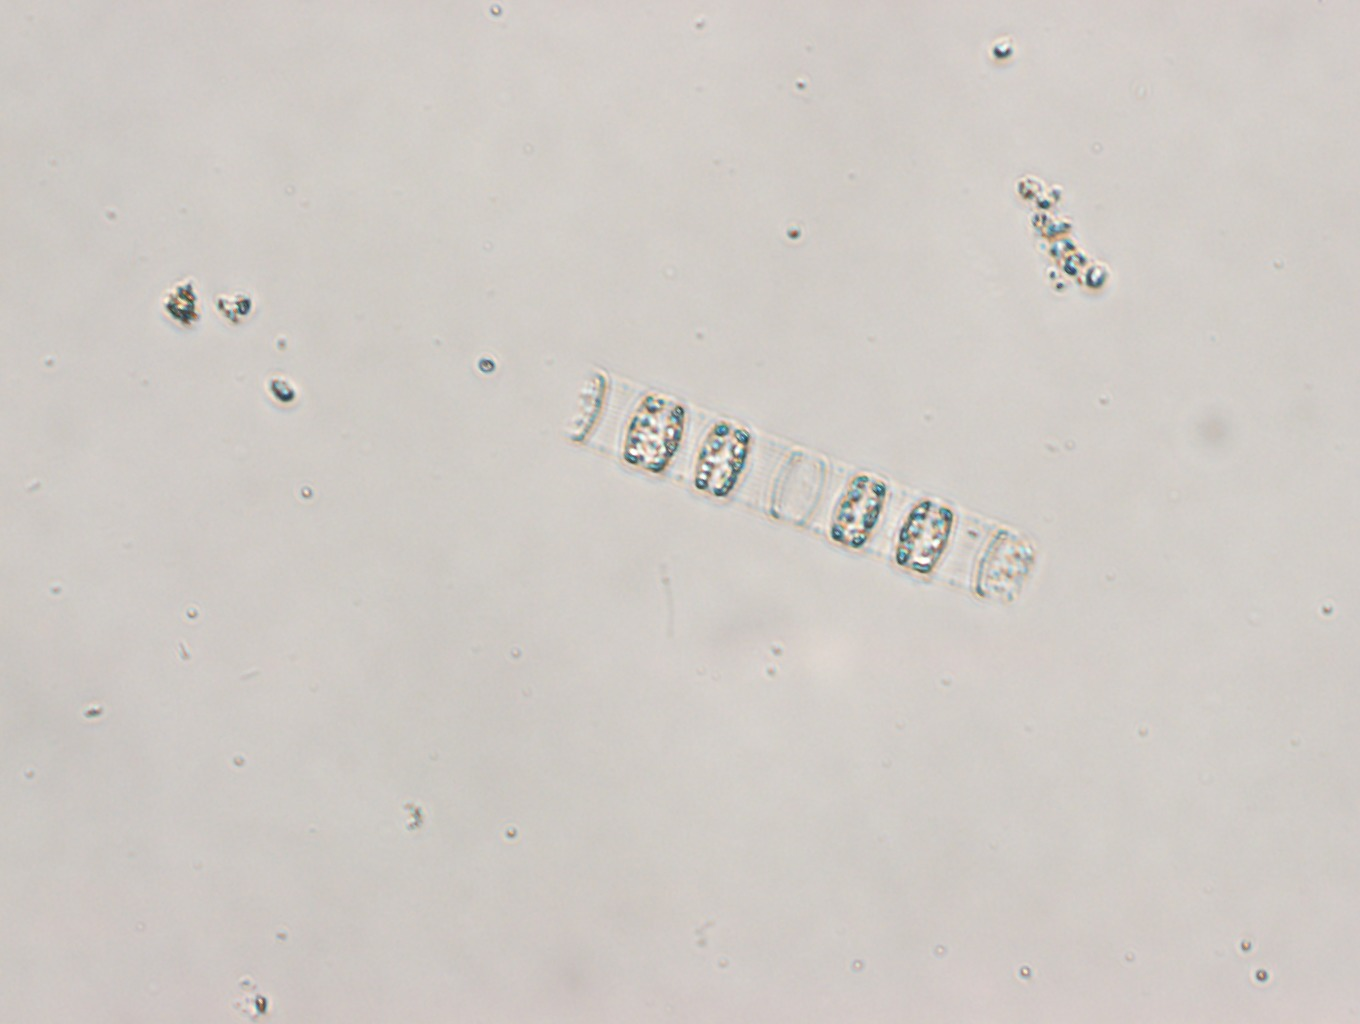skeletonema: (567, 362, 1040, 605)
